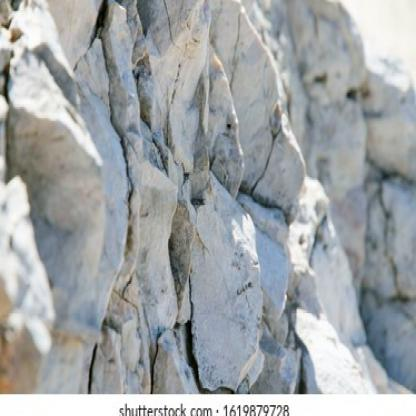Sedimentary_Chalk: (76, 59, 338, 357)
